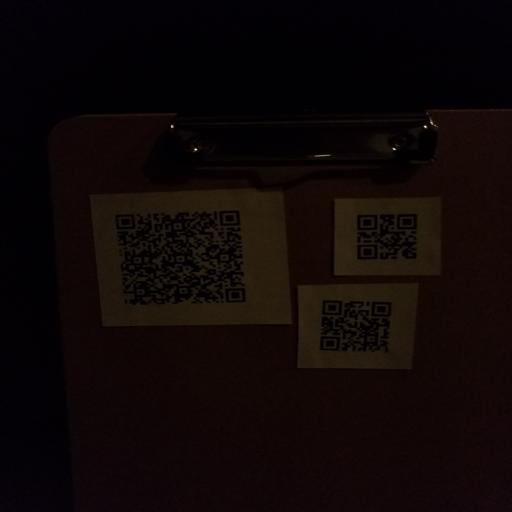qr_code: (115, 210, 247, 307), (318, 299, 393, 354), (356, 213, 418, 261)
